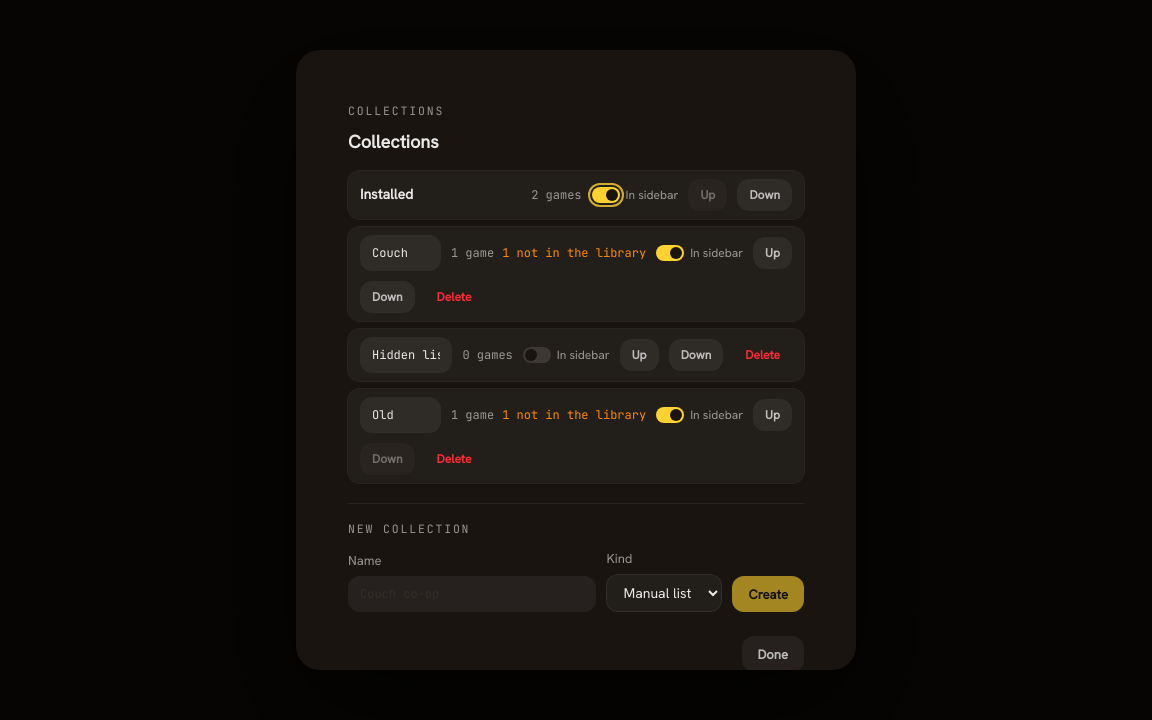
Test: collections dialog › refuses a smart filter with no condition, before it reaches the core
Select "Smart filter" in the dropdown labelled "Kind" at coordinates (664, 593), box [606,574,722,612]
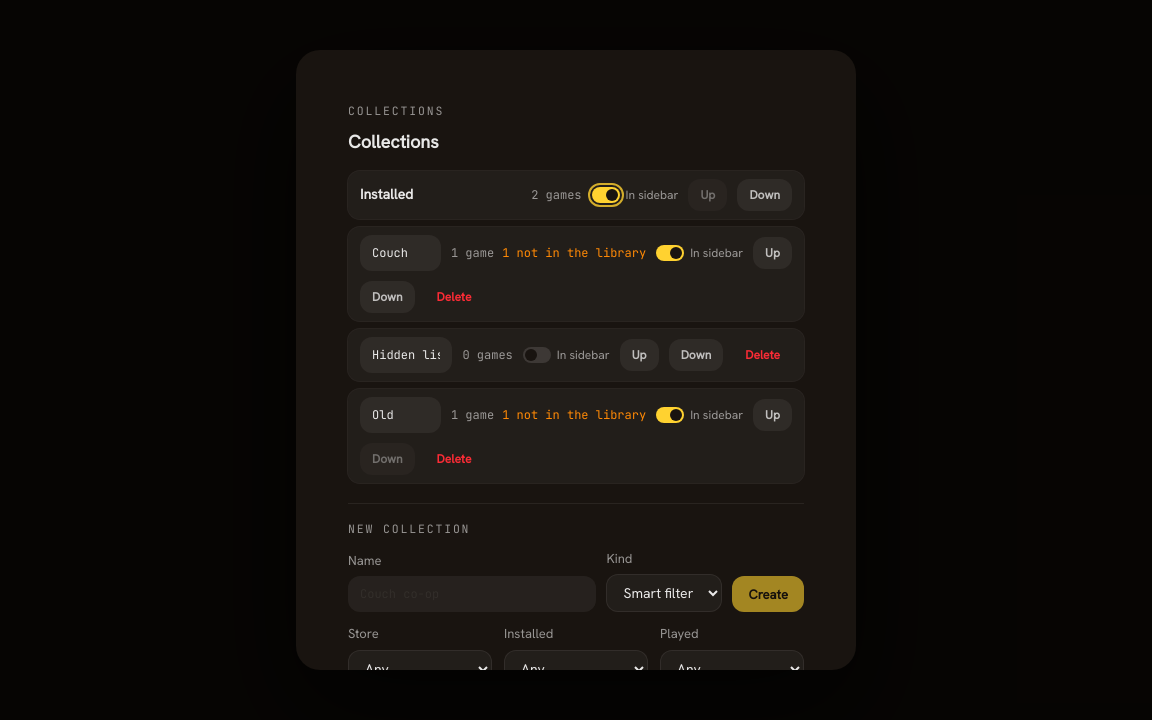
Type "Nothing" into the field labelled "Name" at coordinates (472, 594), box [348,576,596,612]
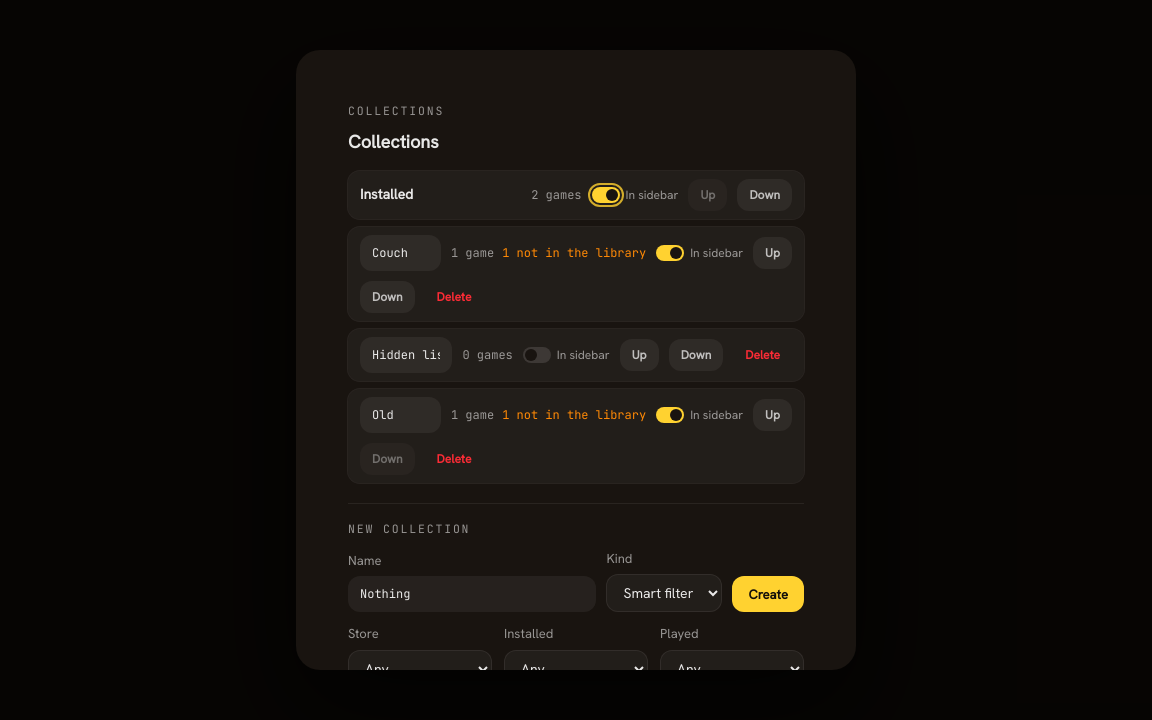
Click the button "Create" at coordinates (768, 594), box [732,576,804,612]
(page scrolled)
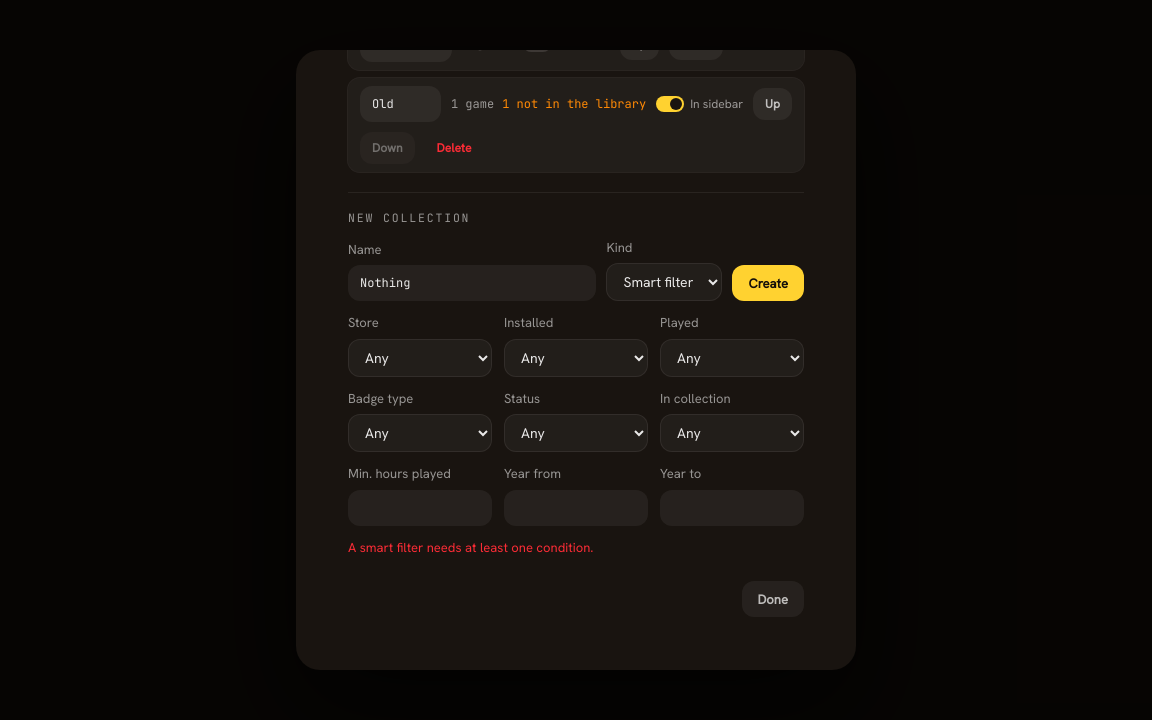
Check: the text "A smart filter needs at least one condition." is shown, box [348,539,594,556]
